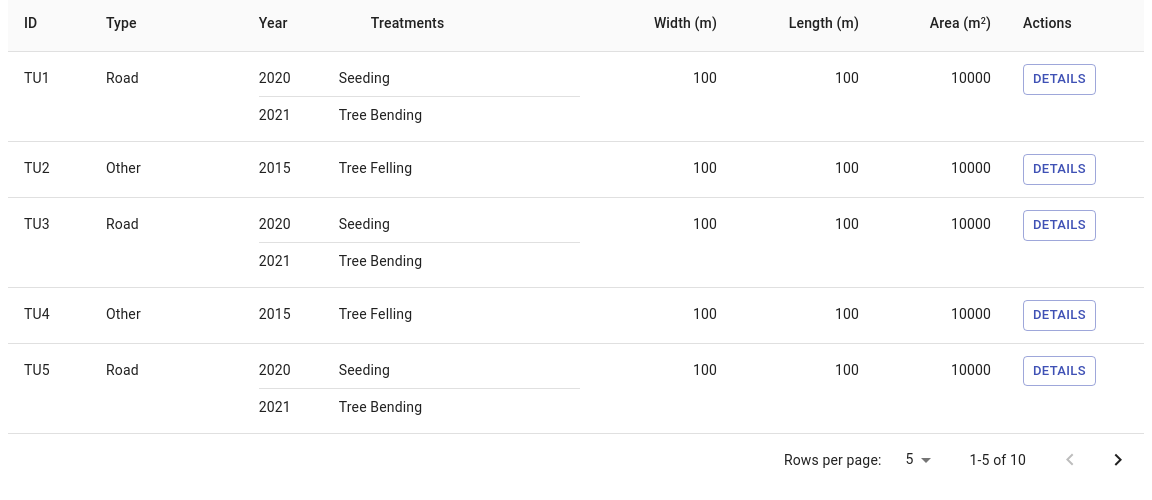
Test: TreatmentList › changing pages displays the correct rows as expected
Expected: the text "TU1" is shown, [8,52,90,142]
Expected: the text "TU2" is shown, [8,142,90,198]
What coordinates should you click on to do the following:
click the button named "Next page"
I would click on:
 (1118, 460)
Its box is [1094,436,1142,484].
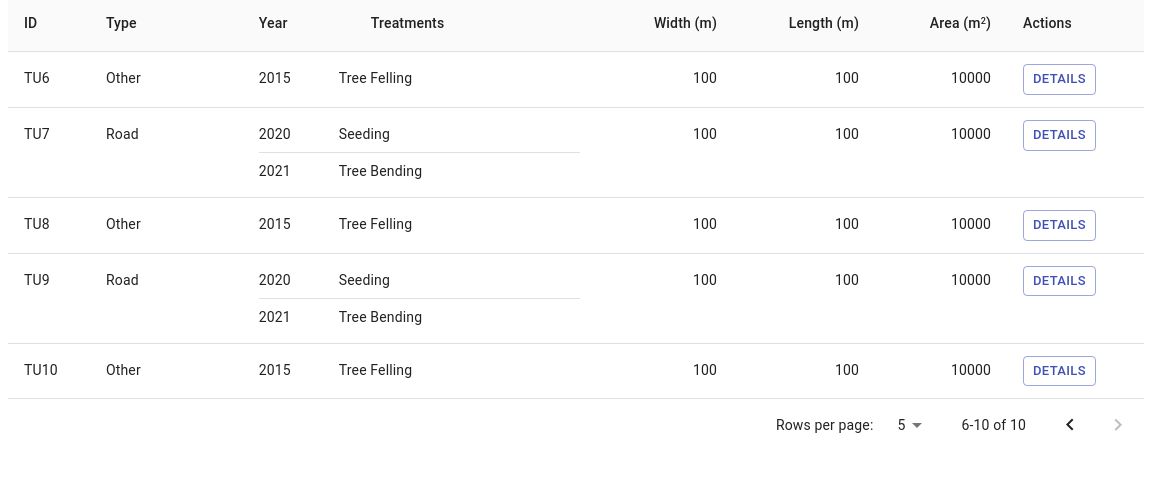
Now the text "TU6" is shown, box [8,52,90,108]
Now the text "TU7" is shown, box [8,108,90,198]
Now the text "TU8" is shown, box [8,198,90,254]
